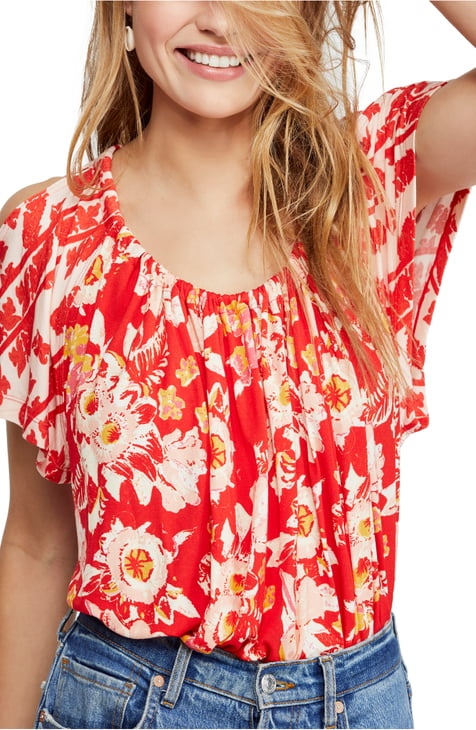C_short blouse: (2, 77, 472, 674)
